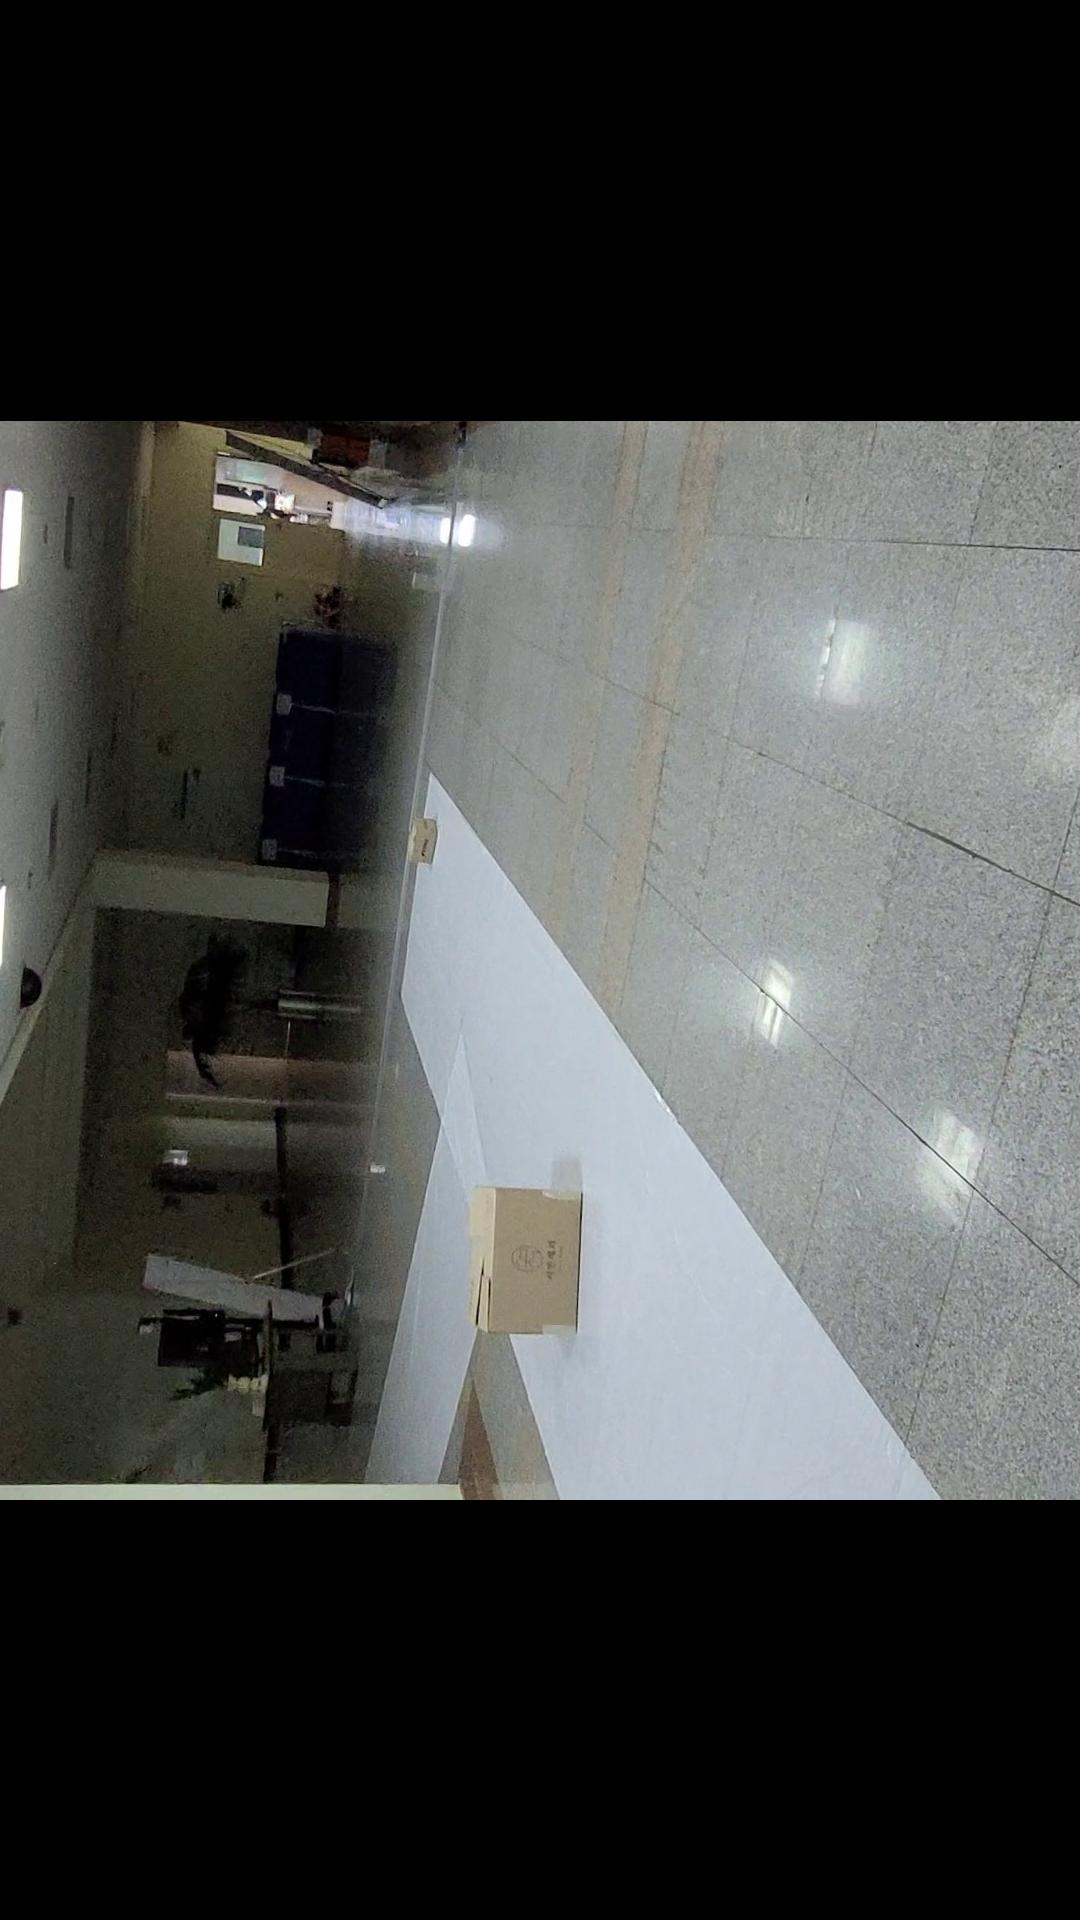Box: (448, 1147, 608, 1385), (388, 793, 455, 887)
